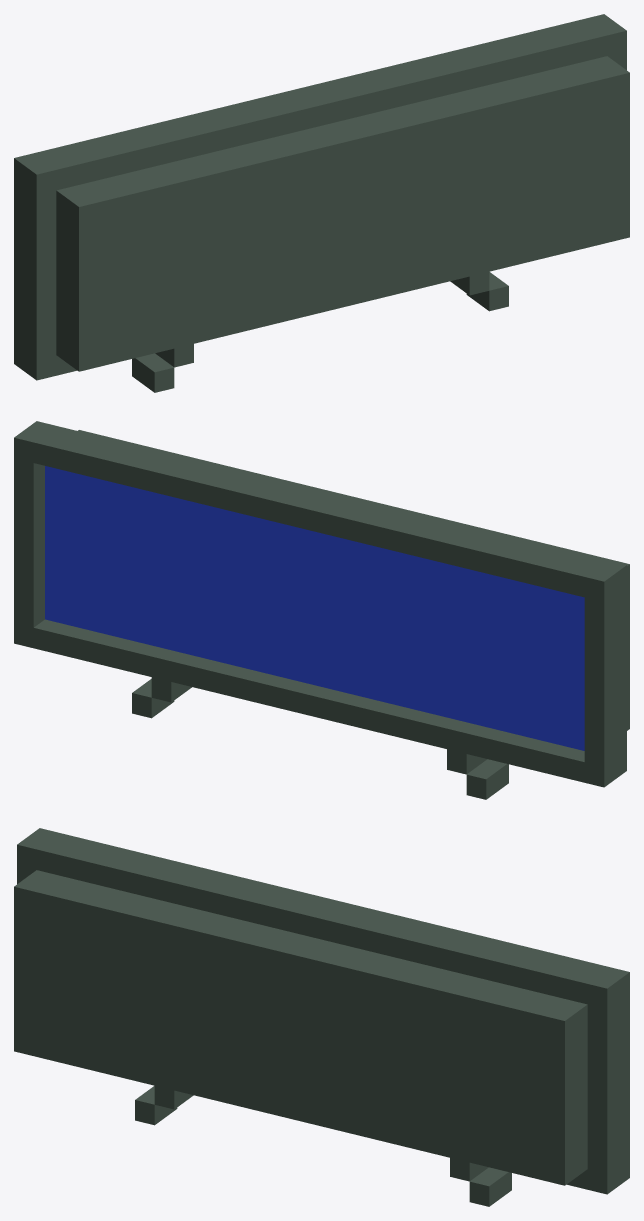
3 renders of one model, top to bottom at view 1: azimuth 30°, elevation 25°; view 2: azimuth 150°, elevation 25°; view 3: azimuth 330°, elevation 25°, orthographic.
Parts seen in each view (by area): view 1: TV; view 2: TV; view 3: TV.
Part boxes in pixels (x1=…): TV: x1=14, y1=14, x2=629, y2=392; TV: x1=14, y1=421, x2=629, y2=799; TV: x1=14, y1=828, x2=629, y2=1206.
Bounding box in the file's own units: 300 × 120 × 40.
